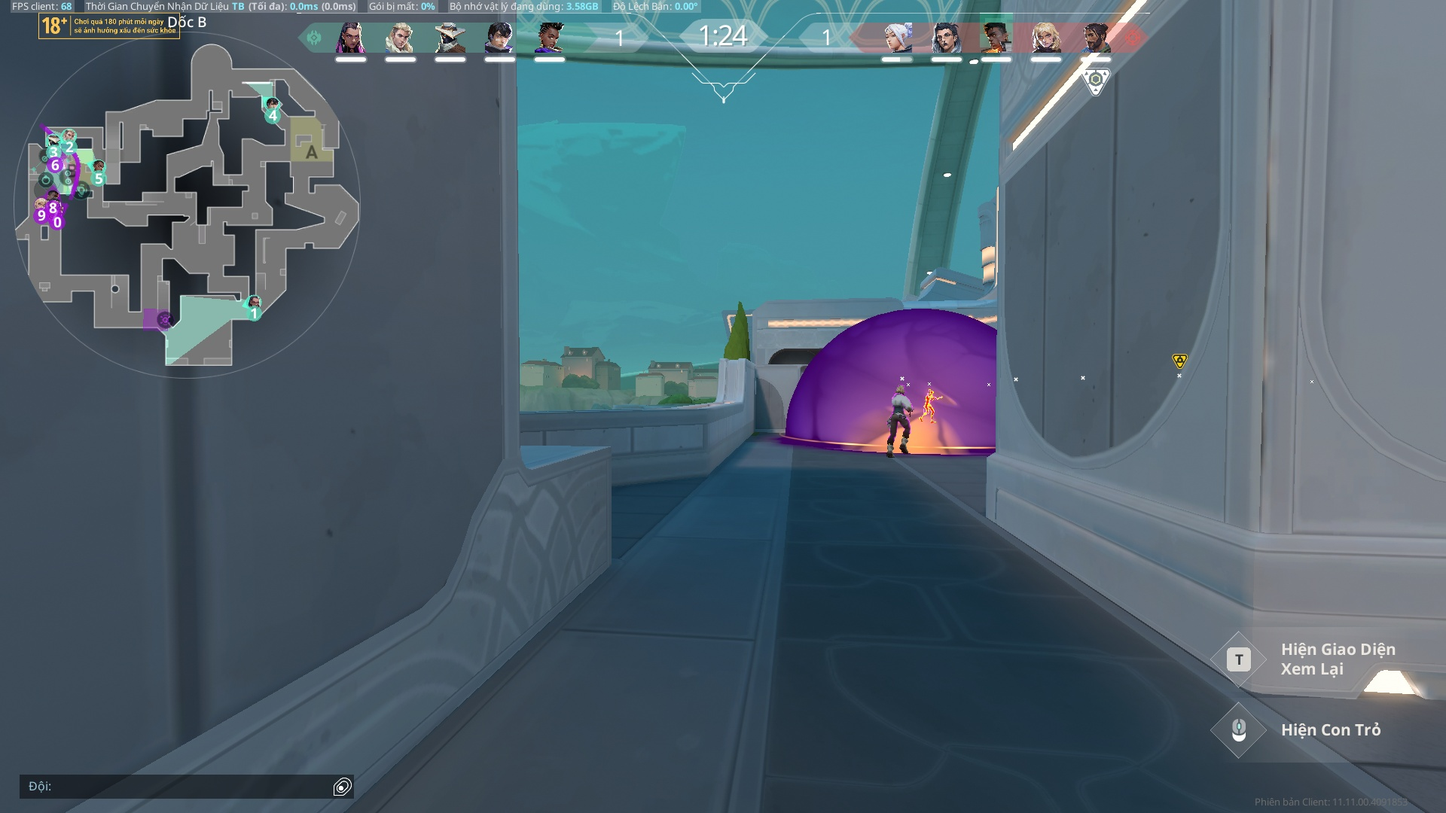body: (892, 393, 911, 417)
head: (894, 384, 907, 395)
